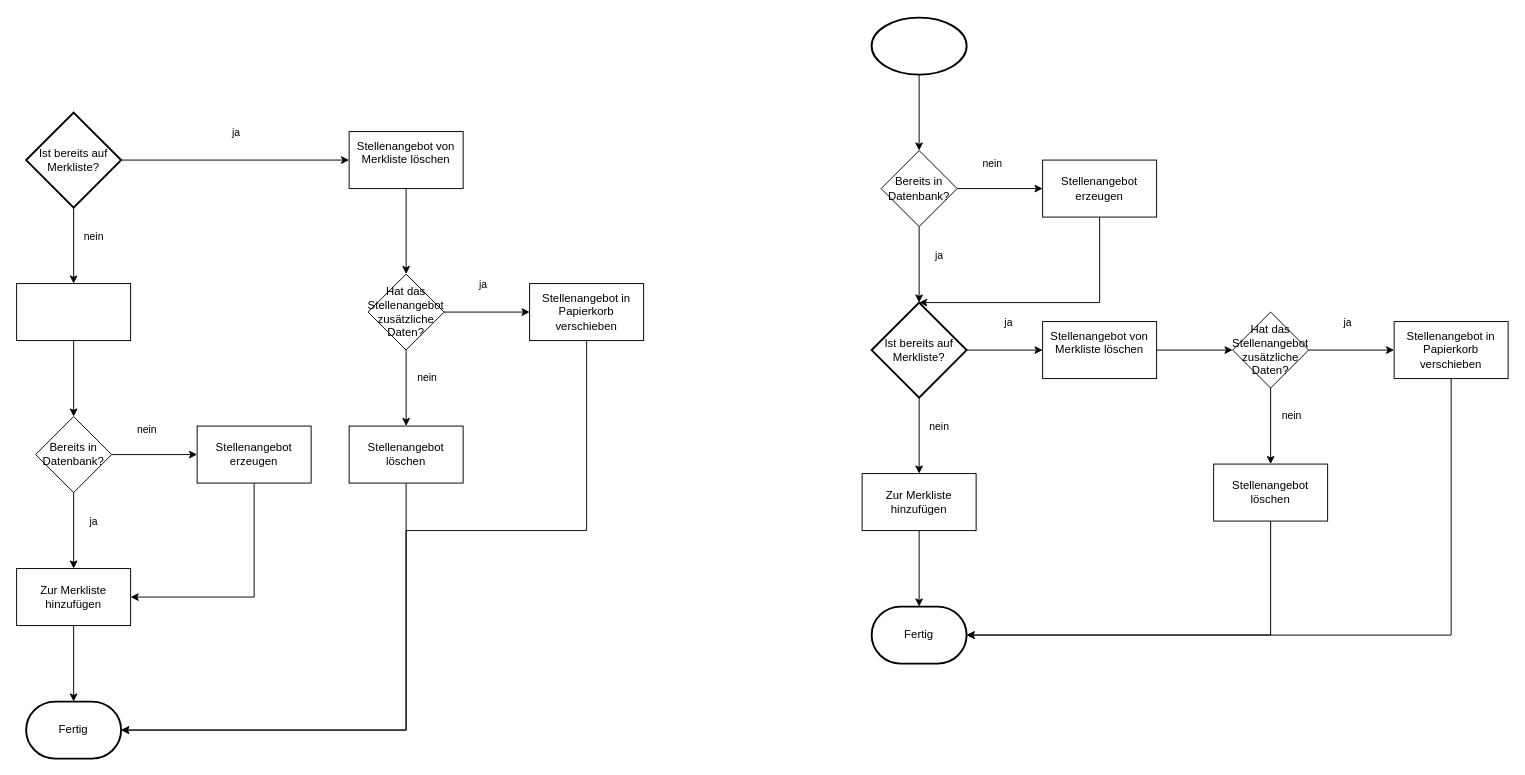
The diagram is 1525 pixels wide and 775 high, and some of its shapes have lost their labels. Here are the shapes that lost their labels. From the top down, the centre of each, then its label:
At pixel 918 45: "Merkliste Toggle Anfrage".
At pixel 73 312: "StellenangebotModel query".
